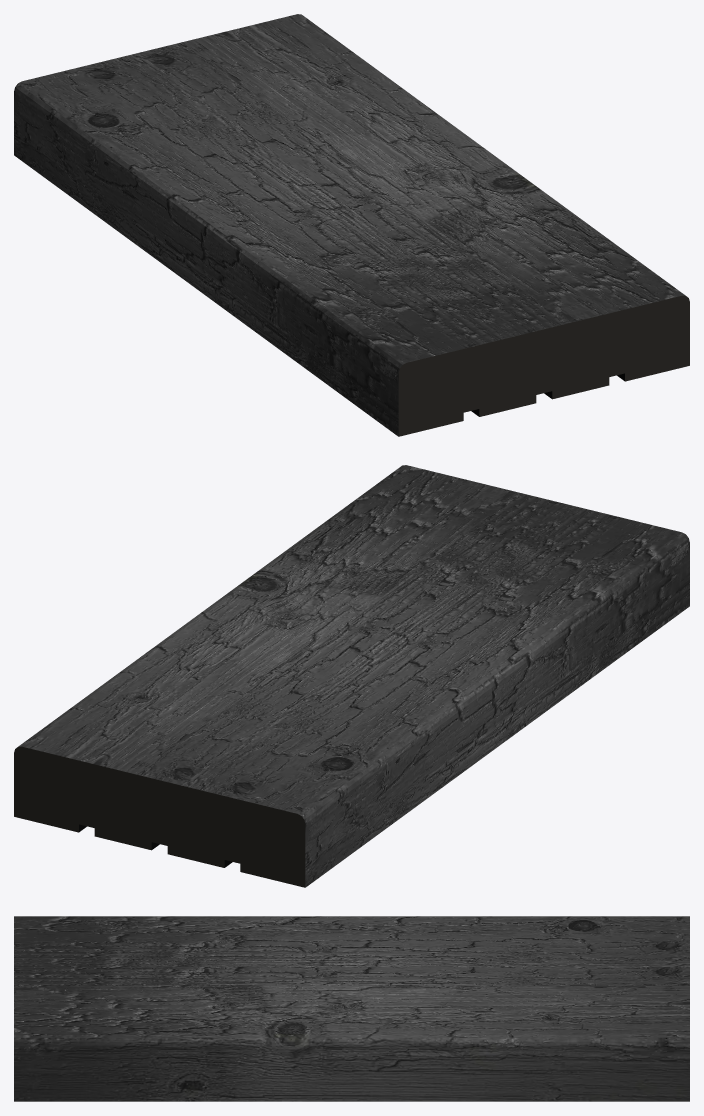
The model's file is spruce-terrace-rectangular-carbon.glb.
The picture shows the model from 3 angles, top to bottom: view 1: azimuth 30°, elevation 25°; view 2: azimuth 150°, elevation 25°; view 3: azimuth 270°, elevation 25°; orthographic projection. The views are drawn at different scales.
Visible parts, largest first — view 1: Staciakampis; view 2: Staciakampis; view 3: Staciakampis.
Boxes of the visible parts, x1,y1,x2,y2 form: Staciakampis: (14, 14, 689, 436); Staciakampis: (14, 465, 689, 887); Staciakampis: (14, 916, 689, 1101).
Size of the model in its own units: 0.0733 by 0.0173 by 0.1675.
3 materials, 1 textured.
